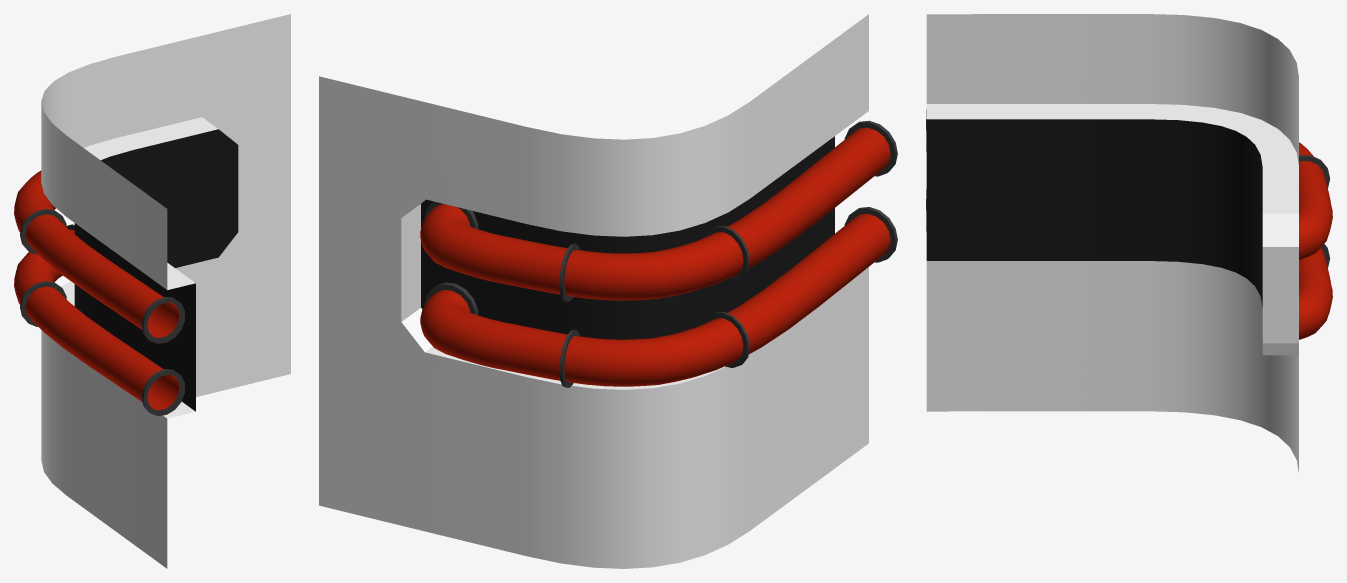
File: S_assete_basement_wall_soft_outside_corner_midel_2.fbx
3 views of the same model, side by side, from view 1: azimuth 30°, elevation 25°; view 2: azimuth 150°, elevation 25°; view 3: azimuth 270°, elevation 25° (orthographic). The views are drawn at different scales.
Parts seen in each view (by area): view 1: basement_wall_soft_outside_corner_midel_2; view 2: basement_wall_soft_outside_corner_midel_2; view 3: basement_wall_soft_outside_corner_midel_2.
Part boxes in pixels (<box>): basement_wall_soft_outside_corner_midel_2: <box>14,14,290,568</box>; basement_wall_soft_outside_corner_midel_2: <box>319,14,897,568</box>; basement_wall_soft_outside_corner_midel_2: <box>926,14,1332,472</box>.
Size of the model in its own units: 184 by 200 by 186.
